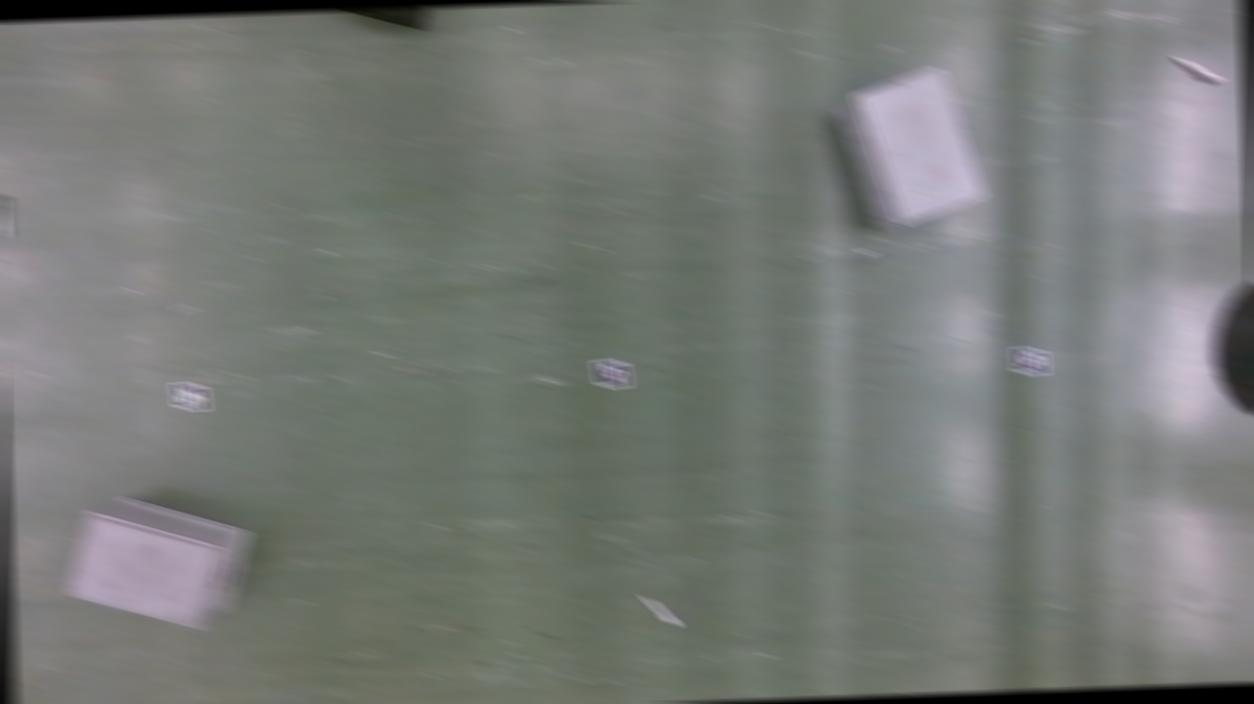probes: (1173, 54, 1219, 84), (642, 591, 680, 625), (0, 188, 10, 234)
rako: (62, 489, 252, 630), (831, 60, 986, 229)
